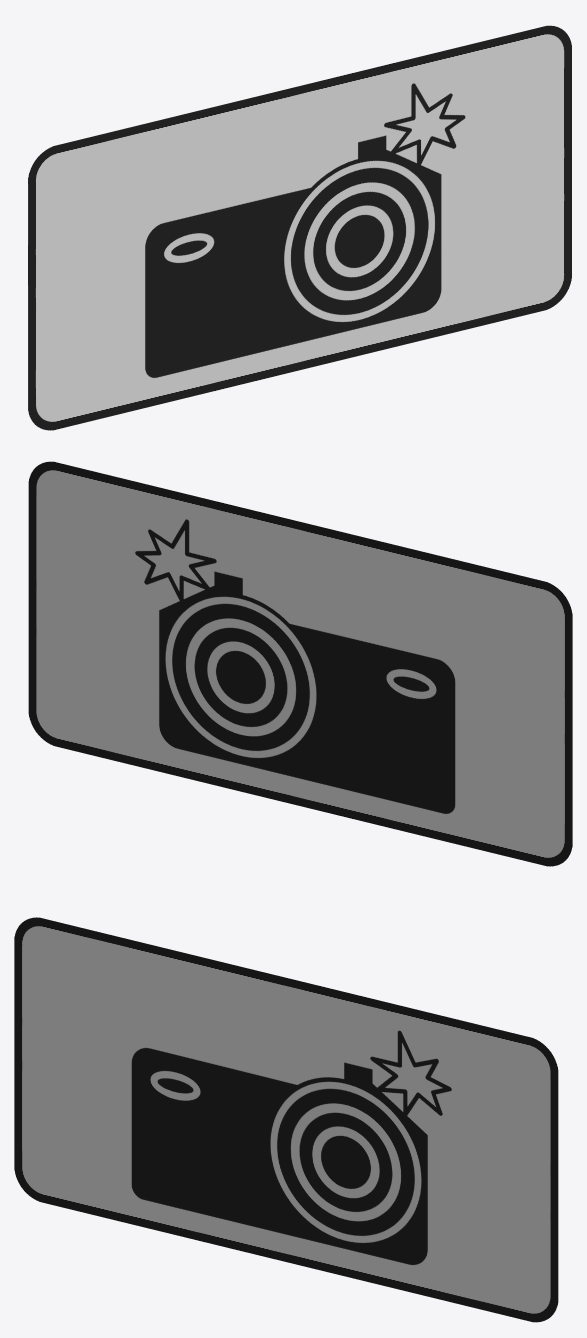
File: Sign Rectangle 2.FBX
3 renders of one model, top to bottom at view 1: azimuth 30°, elevation 25°; view 2: azimuth 150°, elevation 25°; view 3: azimuth 330°, elevation 25°, orthographic.
Visible parts, largest first — view 1: Sign Rectangle 2; view 2: Sign Rectangle 2; view 3: Sign Rectangle 2.
Boxes of the visible parts, box(x1,y1,x2,y2) form: Sign Rectangle 2: box(28, 25, 571, 430); Sign Rectangle 2: box(28, 461, 572, 866); Sign Rectangle 2: box(14, 917, 558, 1322).
Bounding box in the file's own units: 69 × 34.5 × 3.
1 material, 1 textured.
